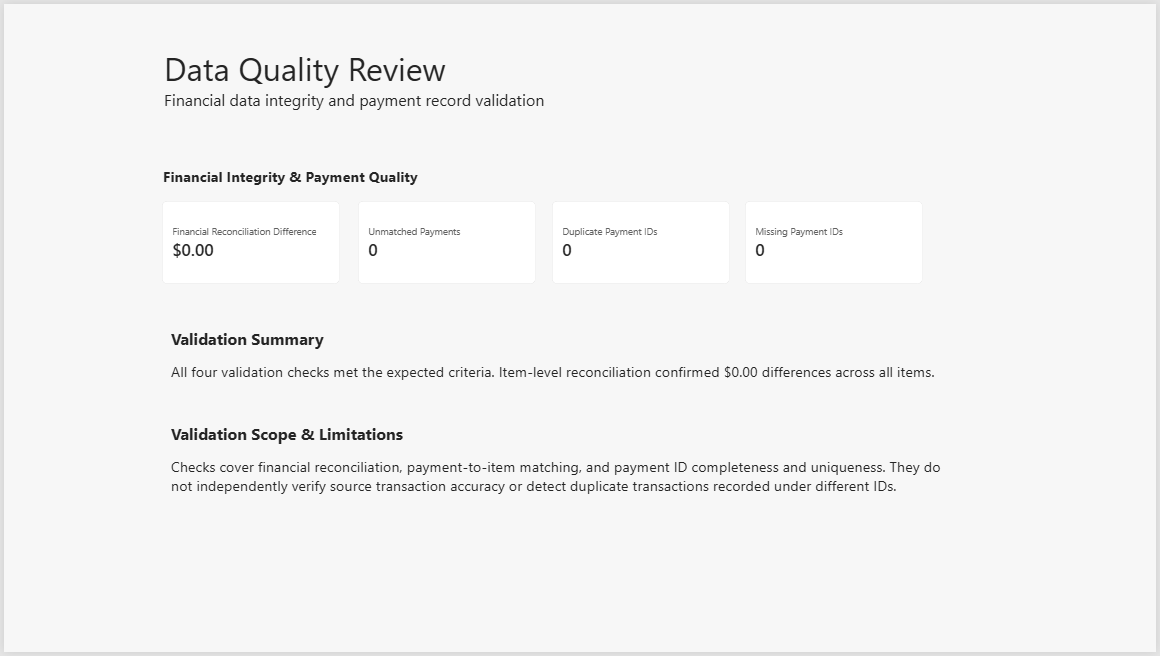

The page's visual inventory and layout, read from the dashboard file:
{"tool":"powerbi","page":{"name":"Data Quality Review","canvas":[1920,1080],"ordinal":2},"visuals":[{"type":"cardVisual","fields":{"Data":["BudgetItems.Financial Reconciliation Difference"]},"box":[263.7,328,296.7,138.4],"z":0},{"type":"cardVisual","fields":{"Data":["FactPayments.Unmatched Payments"]},"box":[590,328,296.7,138.4],"z":1000},{"type":"cardVisual","fields":{"Data":["FactPayments.Duplicate Payment IDs"]},"box":[913,328,296.7,138.4],"z":2000},{"type":"cardVisual","fields":{"Data":["FactPayments.Missing Payment IDs"]},"box":[1234.4,328,296.7,138.4],"z":3000},{"type":"textbox","box":[267,69.2,787.8,136.8],"z":4000},{"type":"textbox","box":[265.3,270.3,476.3,54.4],"z":5000},{"type":"textbox","box":[278.5,540.2,1283.8,133.5],"z":6000},{"type":"textbox","box":[278.5,698.8,1283.8,209.3],"z":7000}]}

Visuals, with their boxes in screenshot pixels (x1, y1, x2, y2), scaled from the page's 1920x1080 canvas onto the 1160x656 screenshot:
cardVisual - BudgetItems.Financial Reconciliation Difference: x1=159 y1=199 x2=339 y2=283
cardVisual - FactPayments.Unmatched Payments: x1=356 y1=199 x2=536 y2=283
cardVisual - FactPayments.Duplicate Payment IDs: x1=552 y1=199 x2=731 y2=283
cardVisual - FactPayments.Missing Payment IDs: x1=746 y1=199 x2=925 y2=283
textbox: x1=161 y1=42 x2=637 y2=125
textbox: x1=160 y1=164 x2=448 y2=197
textbox: x1=168 y1=328 x2=944 y2=409
textbox: x1=168 y1=424 x2=944 y2=552
